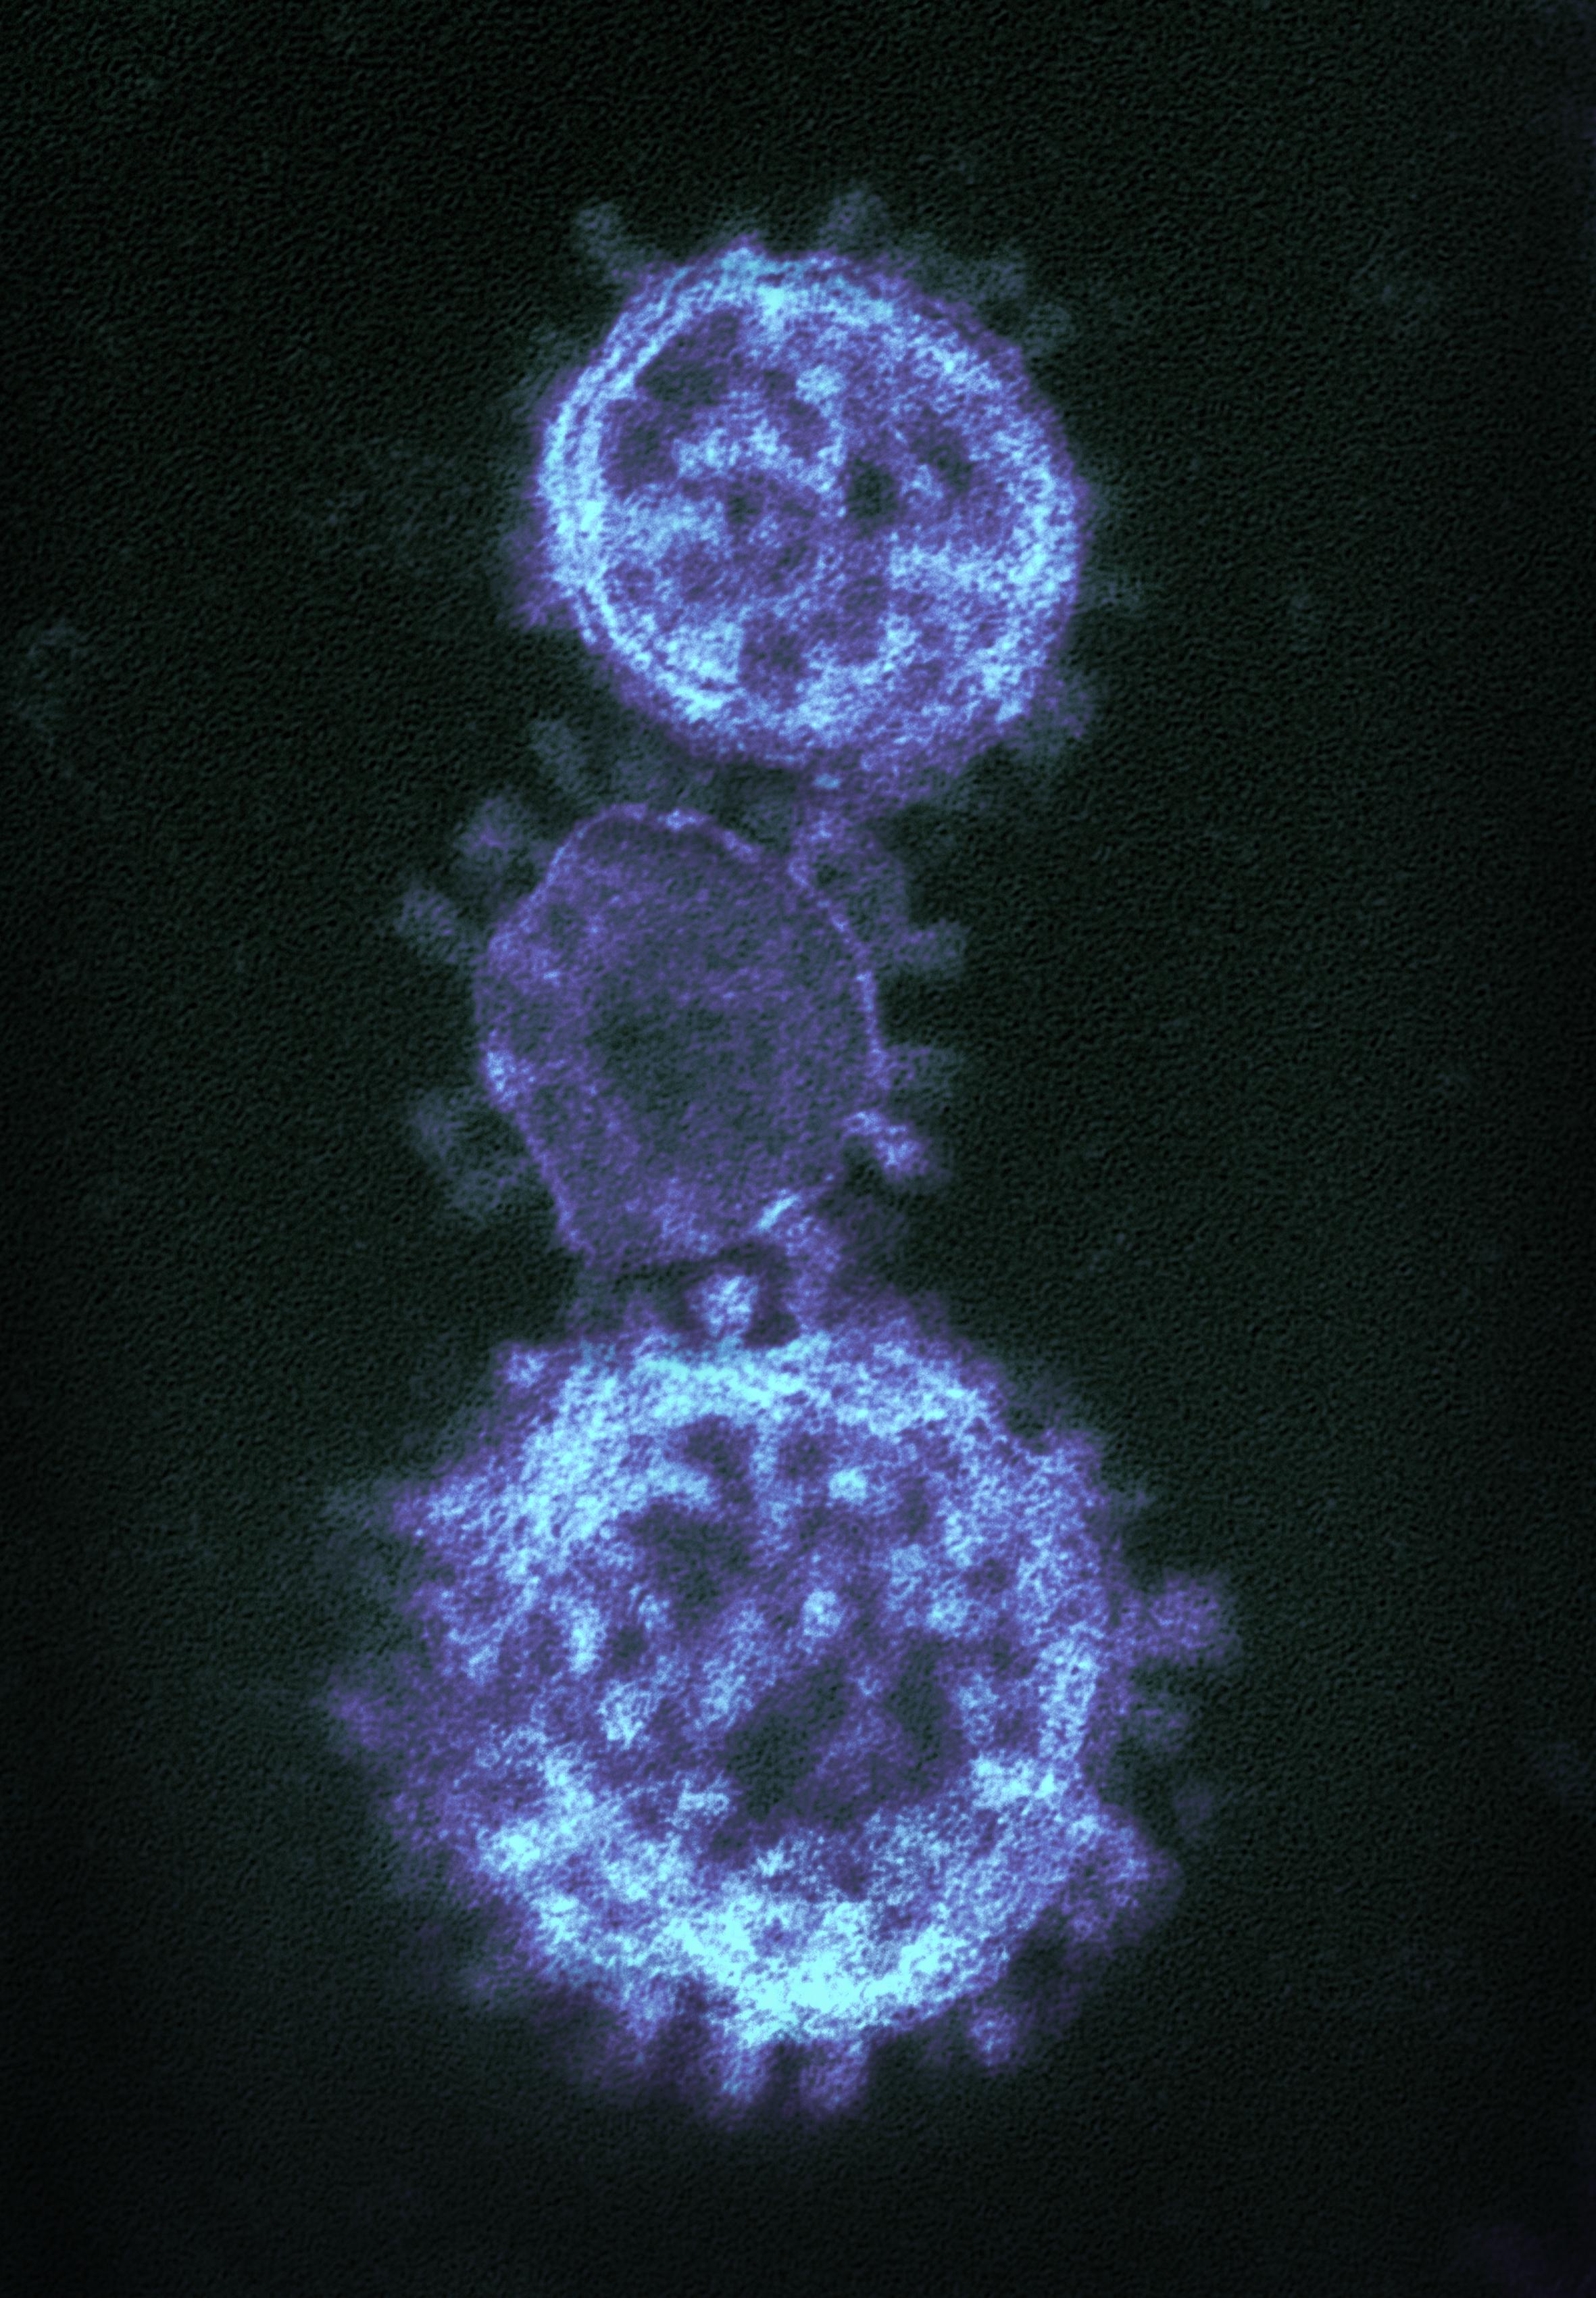COVID19: (405, 1254, 1212, 2080), (320, 632, 1018, 1308), (522, 168, 1144, 854)
